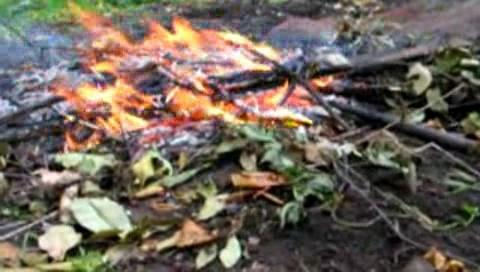fire: (66, 16, 322, 133)
